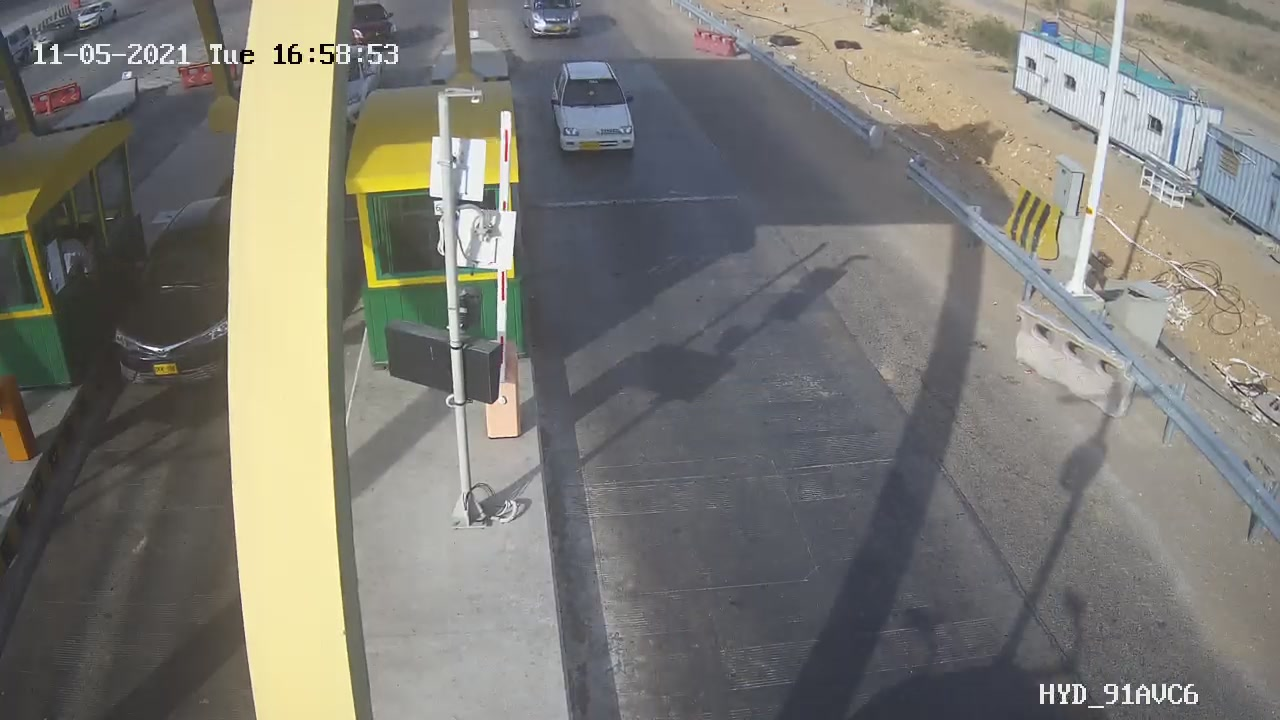F1: (537, 49, 650, 174)
